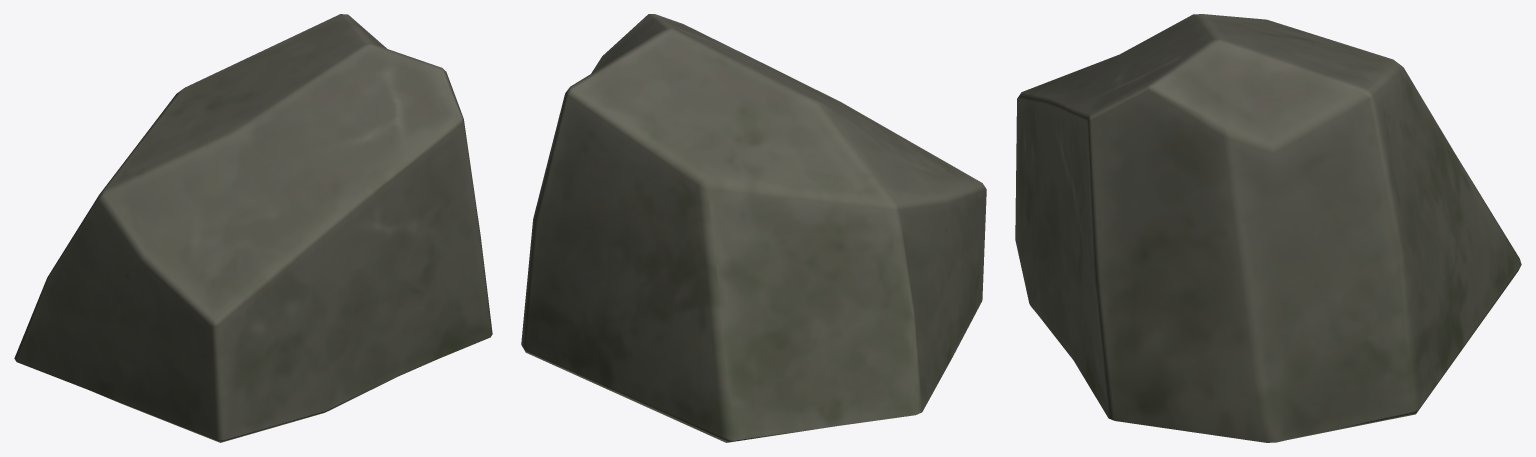
File: AP2_Rock3.glb
3 views of the same model, side by side, from view 1: azimuth 30°, elevation 25°; view 2: azimuth 150°, elevation 25°; view 3: azimuth 270°, elevation 25° (orthographic). The views are drawn at different scales.
Visible parts, largest first — view 1: Rock3_LOD0; view 2: Rock3_LOD0; view 3: Rock3_LOD0.
Part boxes in pixels (x1=…): Rock3_LOD0: x1=14, y1=14, x2=492, y2=442; Rock3_LOD0: x1=521, y1=14, x2=986, y2=442; Rock3_LOD0: x1=1015, y1=14, x2=1521, y2=442.
Size of the model in its own units: 2.02 by 1.3 by 1.76.
1 material, 1 textured.
